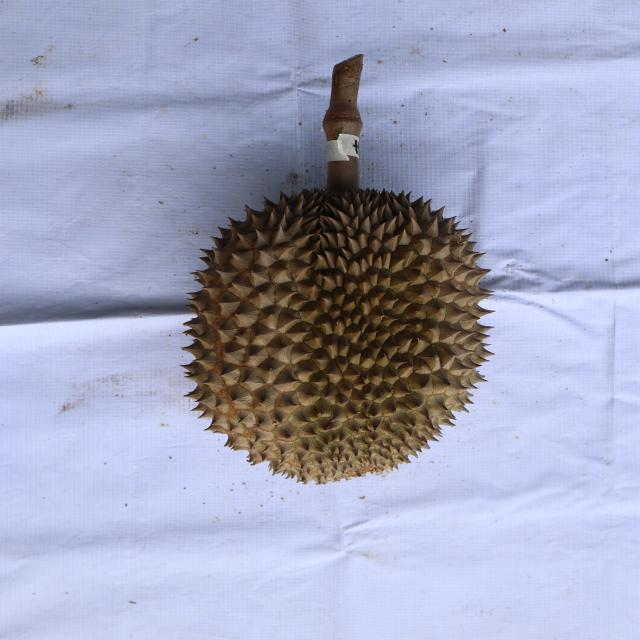mature: (181, 184, 502, 484)
